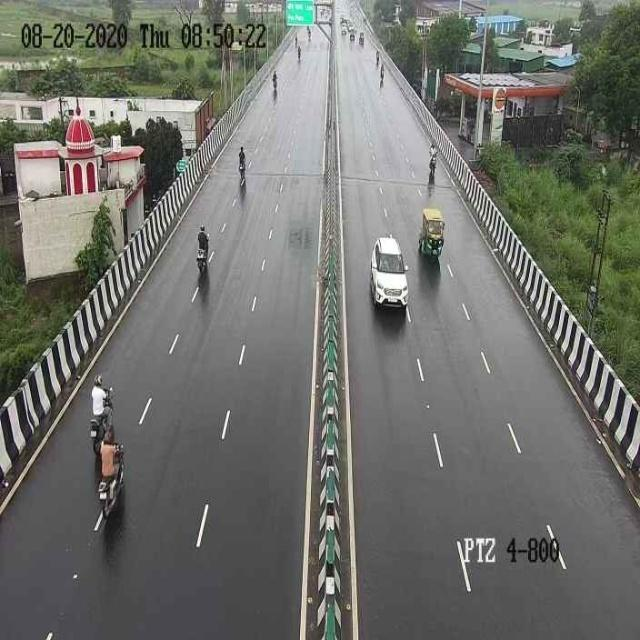car: (365, 228, 412, 319)
